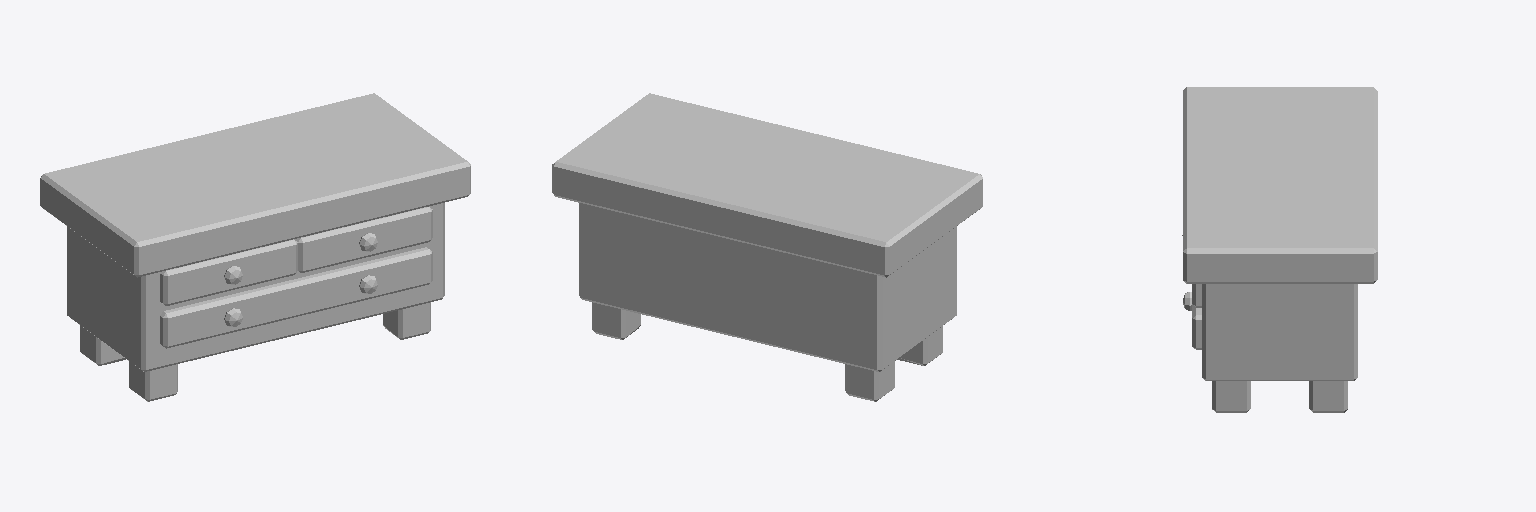
Rendered from cabinet_medium.obj.
The picture shows the model from 3 angles: view 1: azimuth 30°, elevation 25°; view 2: azimuth 150°, elevation 25°; view 3: azimuth 270°, elevation 25°; orthographic projection.
Parts seen in each view (by area): view 1: cabinet_medium_Cube.012; view 2: cabinet_medium_Cube.012; view 3: cabinet_medium_Cube.012.
Part boxes in pixels (x1,y1,x2,y2): cabinet_medium_Cube.012: (40, 93, 470, 401); cabinet_medium_Cube.012: (552, 93, 982, 401); cabinet_medium_Cube.012: (1182, 87, 1377, 412).
Size of the model in its own units: 2 by 1 by 1.